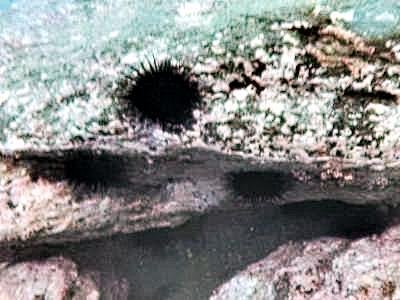urchin: (122, 52, 203, 126), (63, 148, 126, 193), (225, 168, 287, 201)
